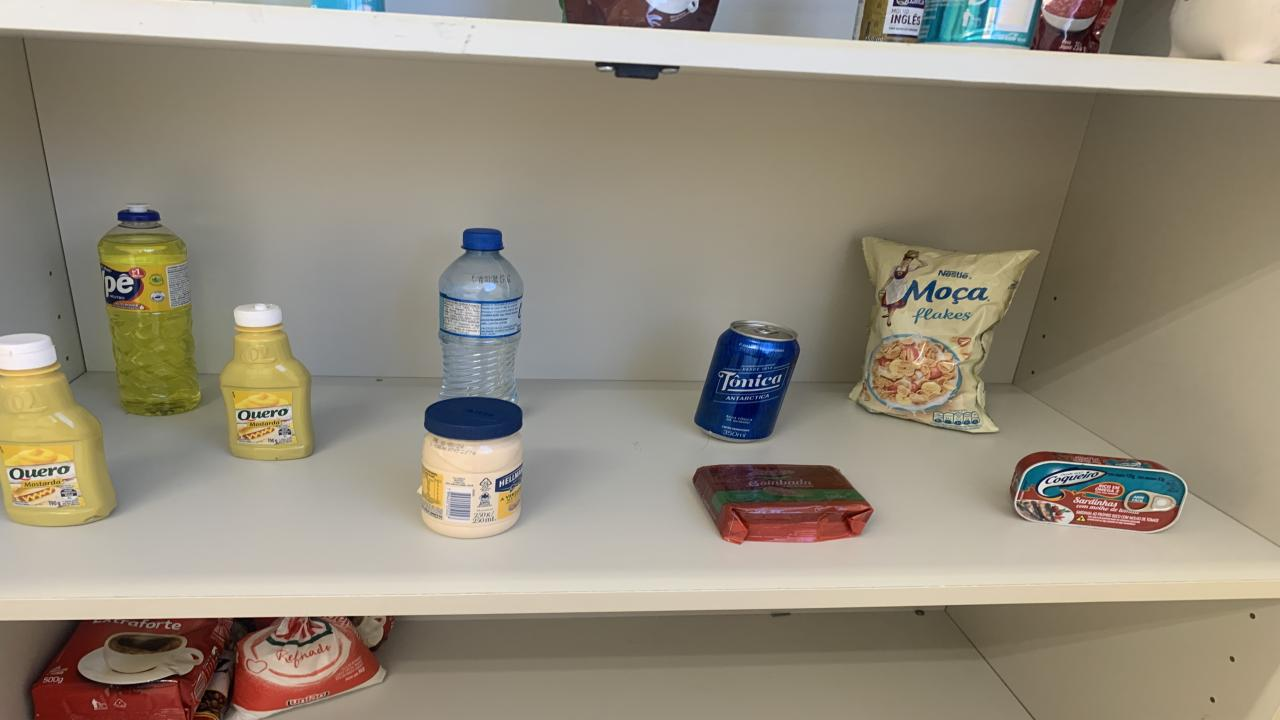Cleaner-Cleanup_Items: (310, 0, 385, 11)
Coffee-Pantry_Items: (560, 0, 718, 30)
Detergent-Cleanup_Items: (98, 204, 200, 416)
English_Sauce-Pantry_Items: (858, 0, 925, 43)
Flakes-Snacks: (850, 236, 1038, 433)
Guava-Snacks: (692, 465, 872, 544)
Mayonnaise-Pantry_Items: (420, 398, 522, 538)
Mustard-Pantry_Items: (0, 334, 115, 527), (220, 304, 315, 459)
Tea-Drinks: (918, 0, 1040, 49)
Tomato_Sauce-Pantry_Items: (1032, 0, 1118, 52)
Tonic-Drinks: (695, 321, 800, 442)
Tuna_Can-Pantry_Items: (1010, 452, 1188, 532)
Water_Bottle-Drinks: (438, 229, 522, 401)
